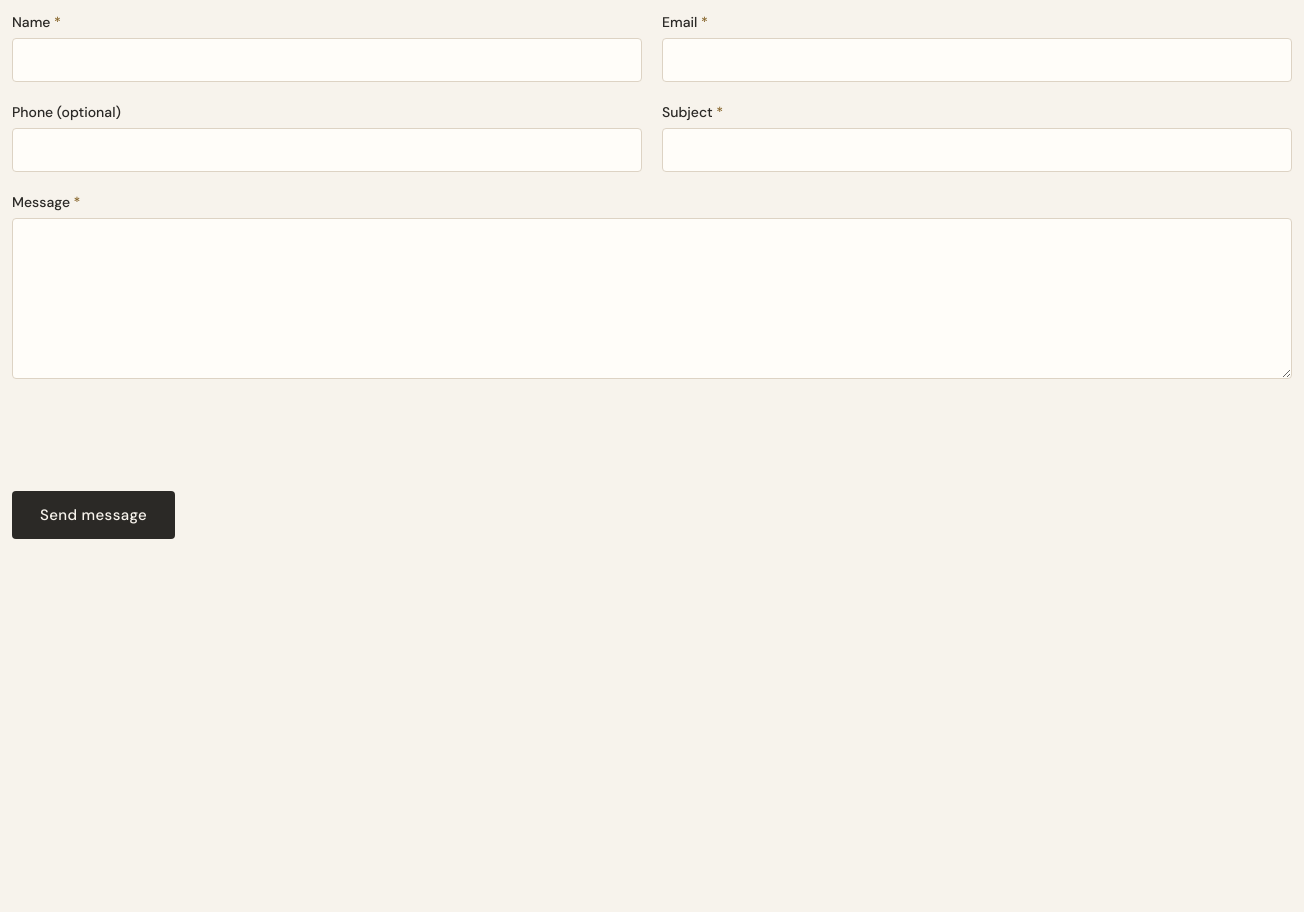
Test: ContactForm › surfaces server-side errors next to the field
The image size is (1304, 912).
Type "Rahul Mehta" into the field labelled "Name *". click: coordinates (327, 60)
box: [12,38,642,82]
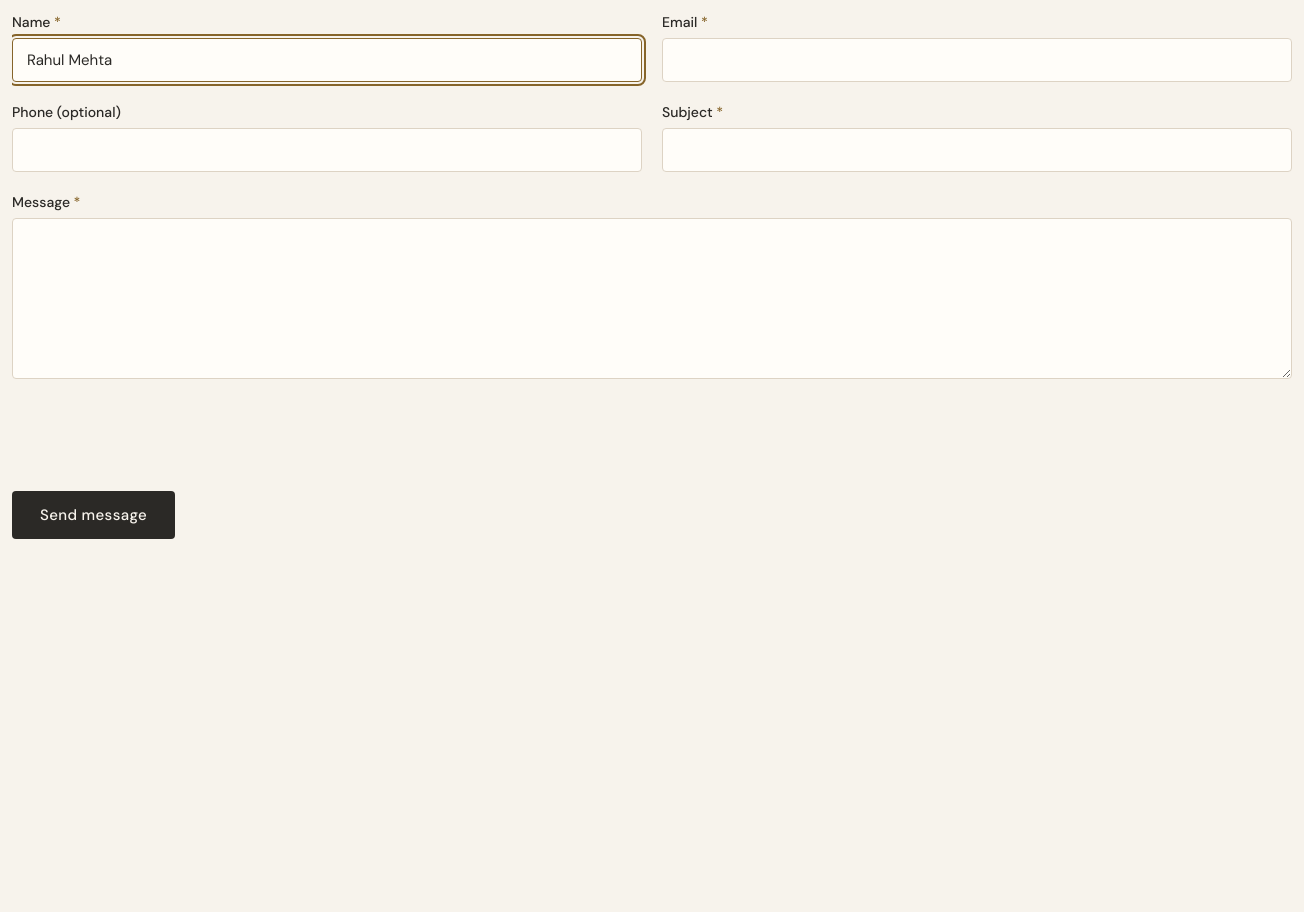
Type "rahul@example.com" into the field labelled "Email *". click: coordinates (977, 60)
box: [662,38,1292,82]
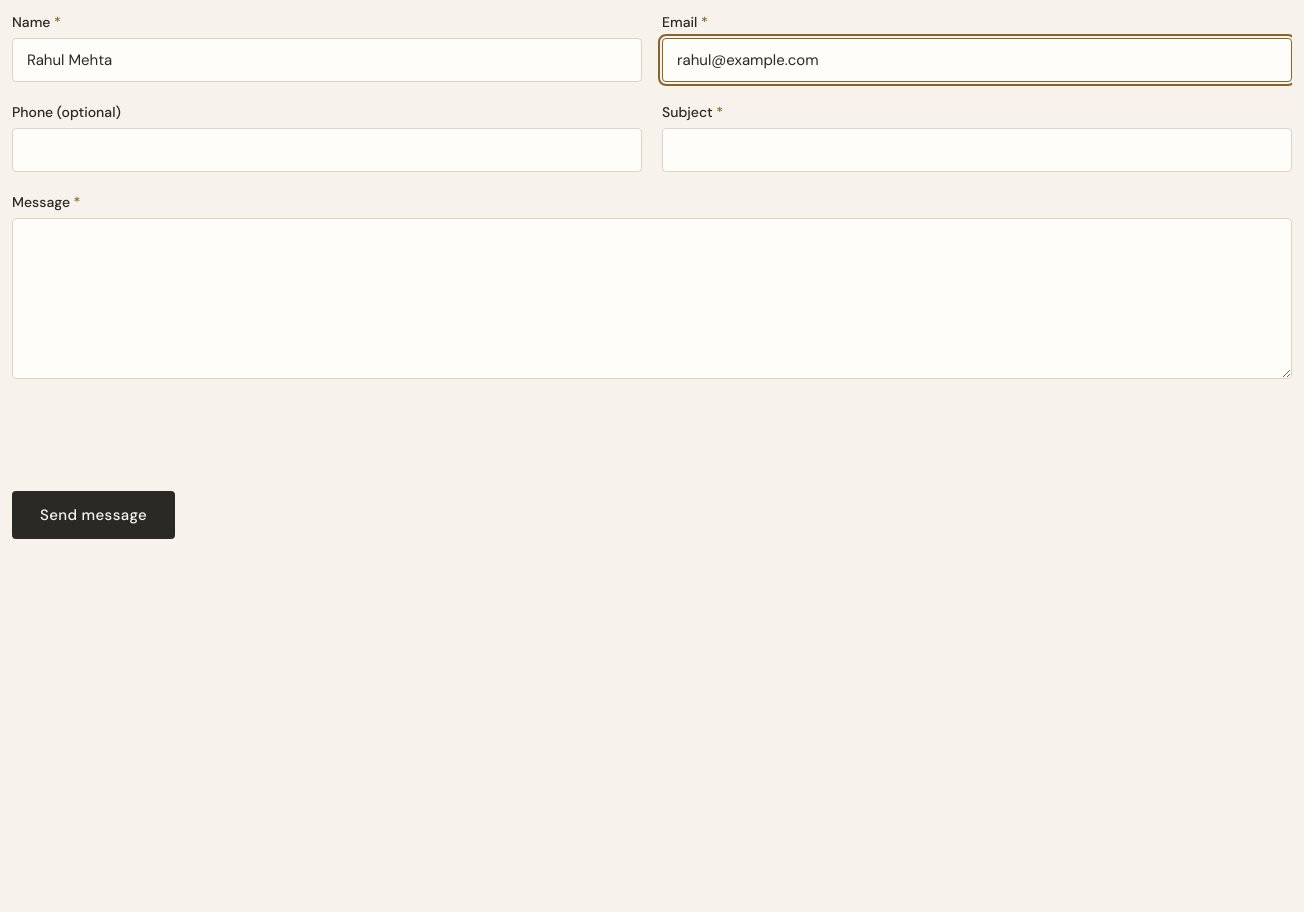
Type "Press enquiry" into the field labelled "Subject *". click: coordinates (977, 150)
box: [662,128,1292,172]
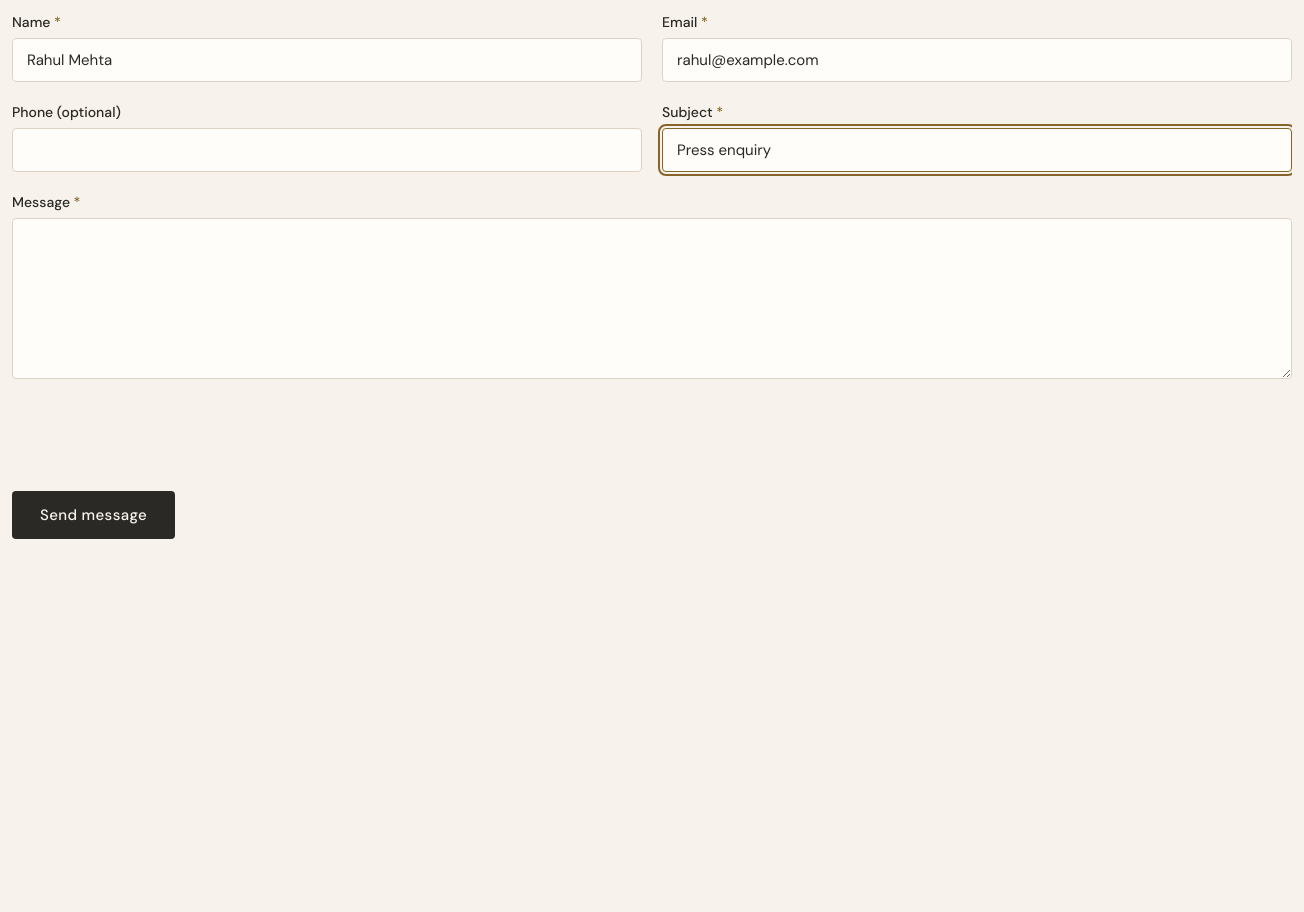
Type "I would like to feature one of your projects in our next issue." into the text box labelled "Message *". click: coordinates (652, 298)
box: [12,218,1292,379]
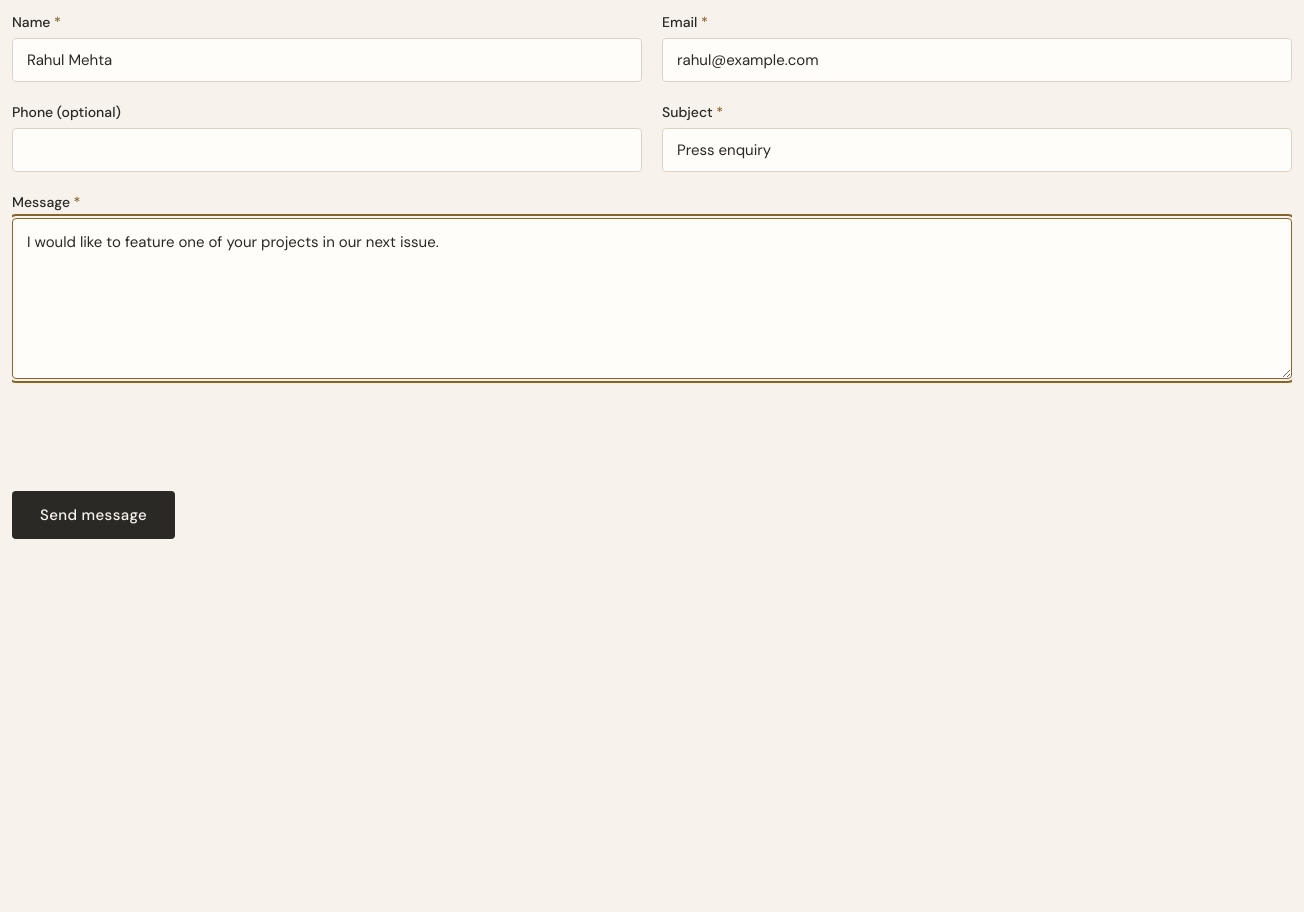
Click the button "Send message". click: coordinates (94, 515)
box: [12,491,175,539]
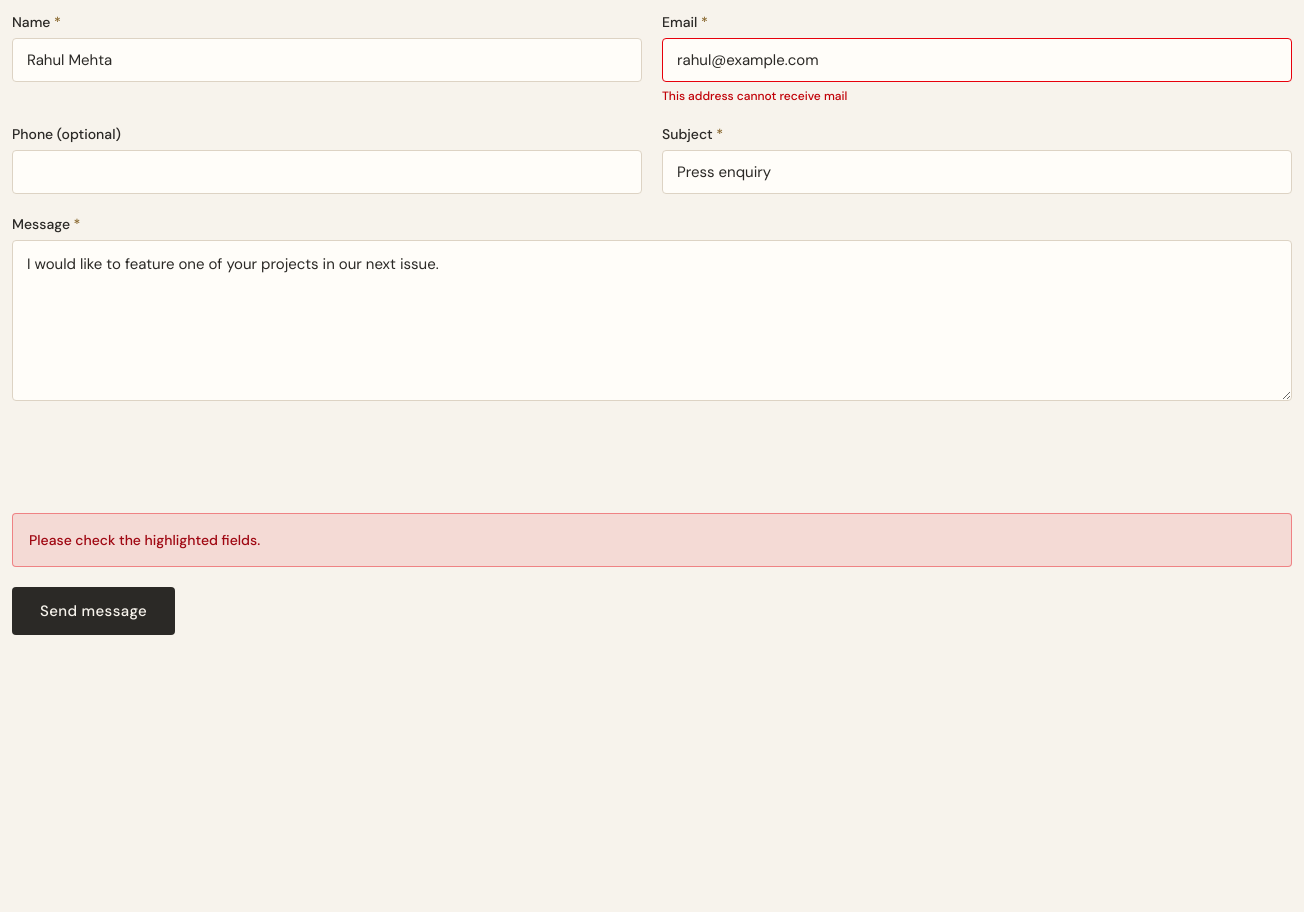
Check: the text "This address cannot receive mail" is shown, box [662,88,847,104]
Check: the text "Please check the highlighted fields." is shown, box [12,513,1292,567]
